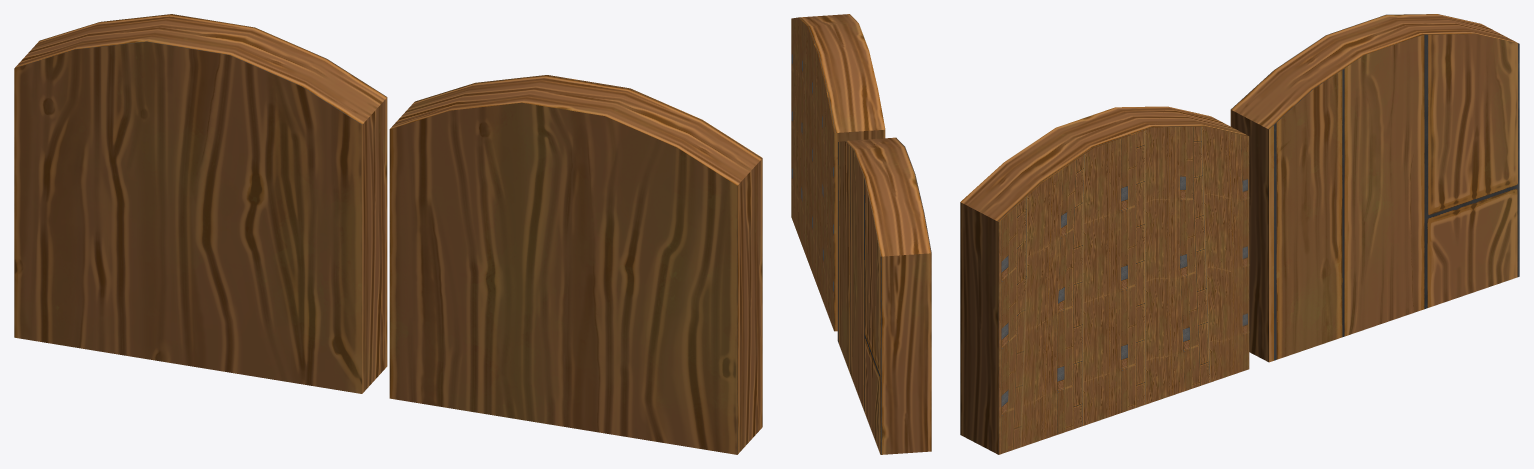
3 views of the same model, side by side, from view 1: azimuth 30°, elevation 25°; view 2: azimuth 150°, elevation 25°; view 3: azimuth 270°, elevation 25° (orthographic). The views are drawn at different scales.
Visible parts, largest first — view 1: Cube.583; view 2: Cube.583; view 3: Cube.583.
Part boxes in pixels (<box>): Cube.583: <box>14,14,762,454</box>; Cube.583: <box>791,14,931,454</box>; Cube.583: <box>960,14,1519,454</box>.
Size of the model in its own units: 184 by 119 by 219.
1 material, 1 textured.
